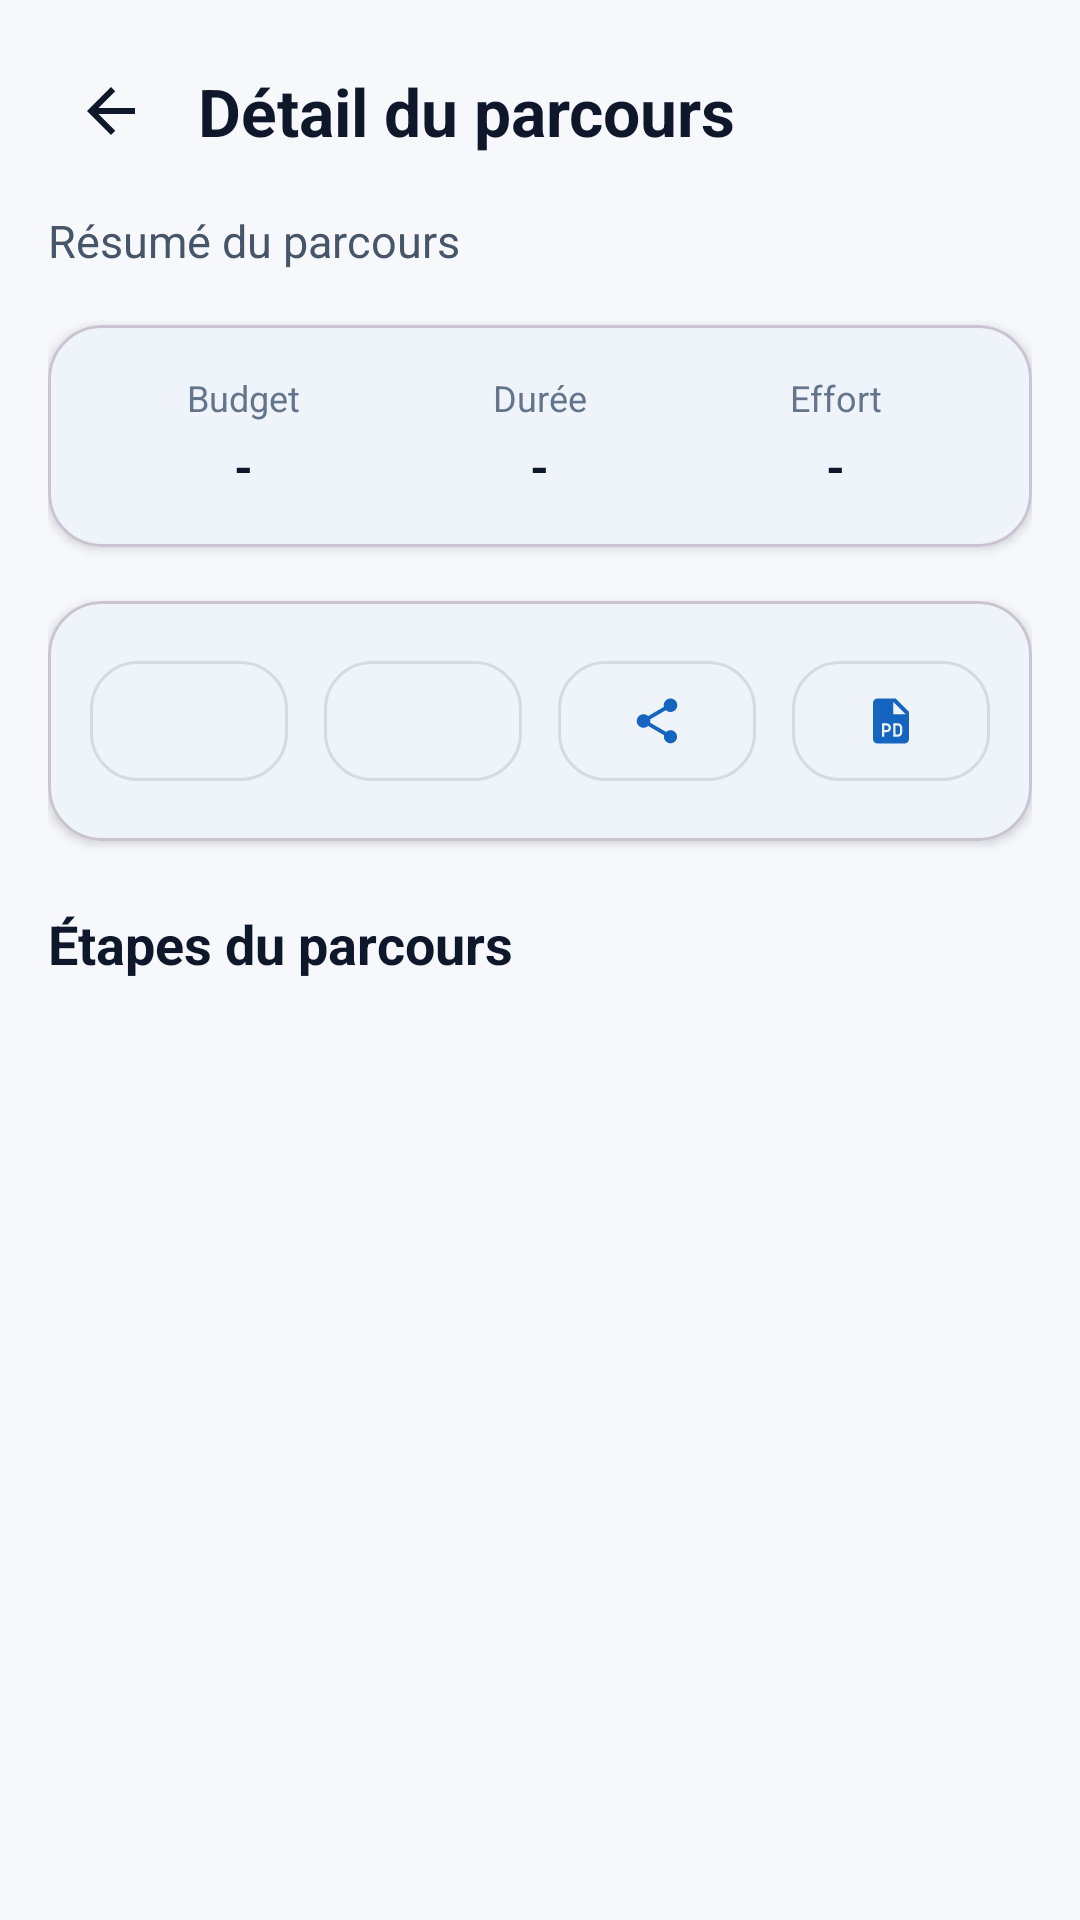

Icons on this 1080 × 1920 Android screen, each with the point to tap as (x,y):
Retour: (111,111)
